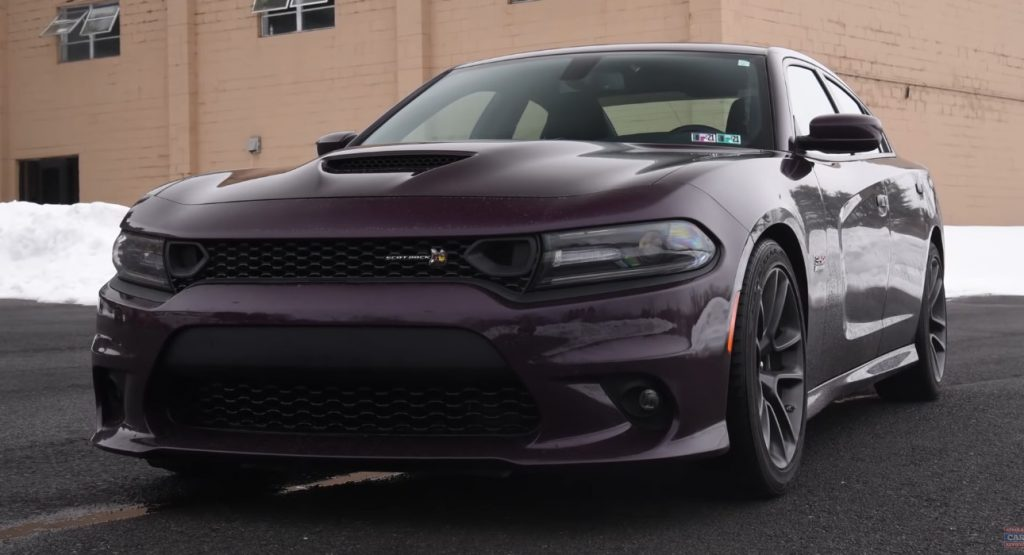car: (83, 39, 959, 499)
